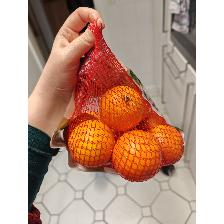Orange: (68, 17, 186, 184)
